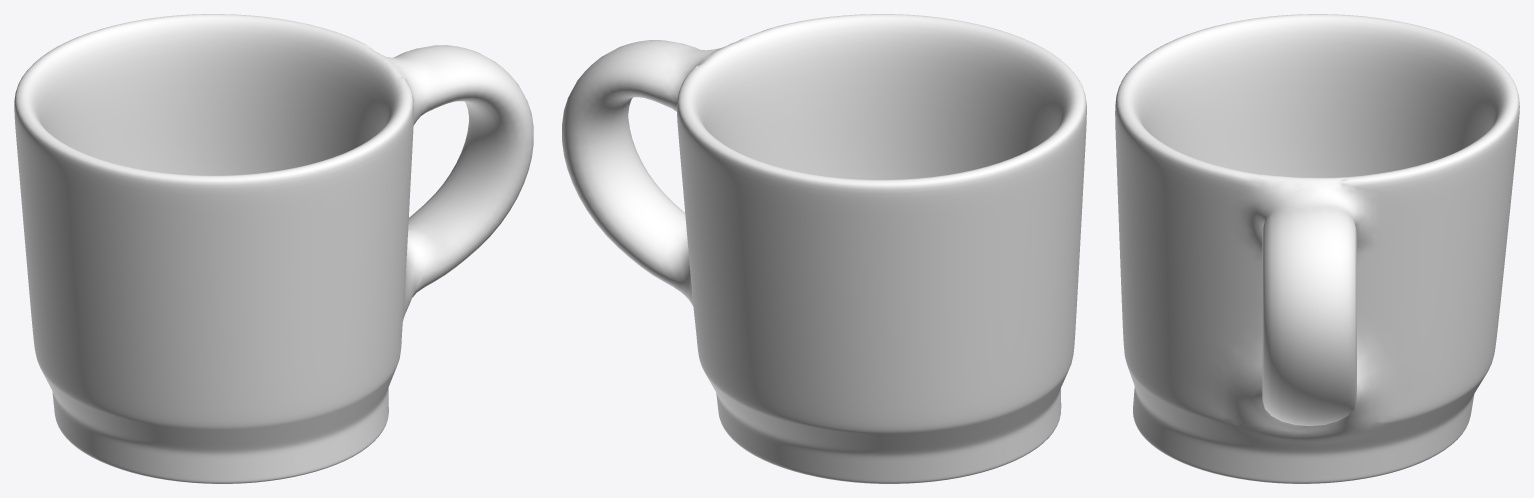
The picture shows the model from 3 angles, left to right: view 1: azimuth 30°, elevation 25°; view 2: azimuth 150°, elevation 25°; view 3: azimuth 270°, elevation 25°; orthographic projection. The views are drawn at different scales.
Visible parts, largest first — view 1: Cup_0; view 2: Cup_0; view 3: Cup_0.
Boxes of the visible parts, x1,y1,x2,y2 form: Cup_0: (14,14,533,483); Cup_0: (562,14,1086,483); Cup_0: (1115,14,1519,483).
Size of the model in its own units: 3.11 by 1.94 by 2.24.
Materials: 1 (1 with a texture image).
